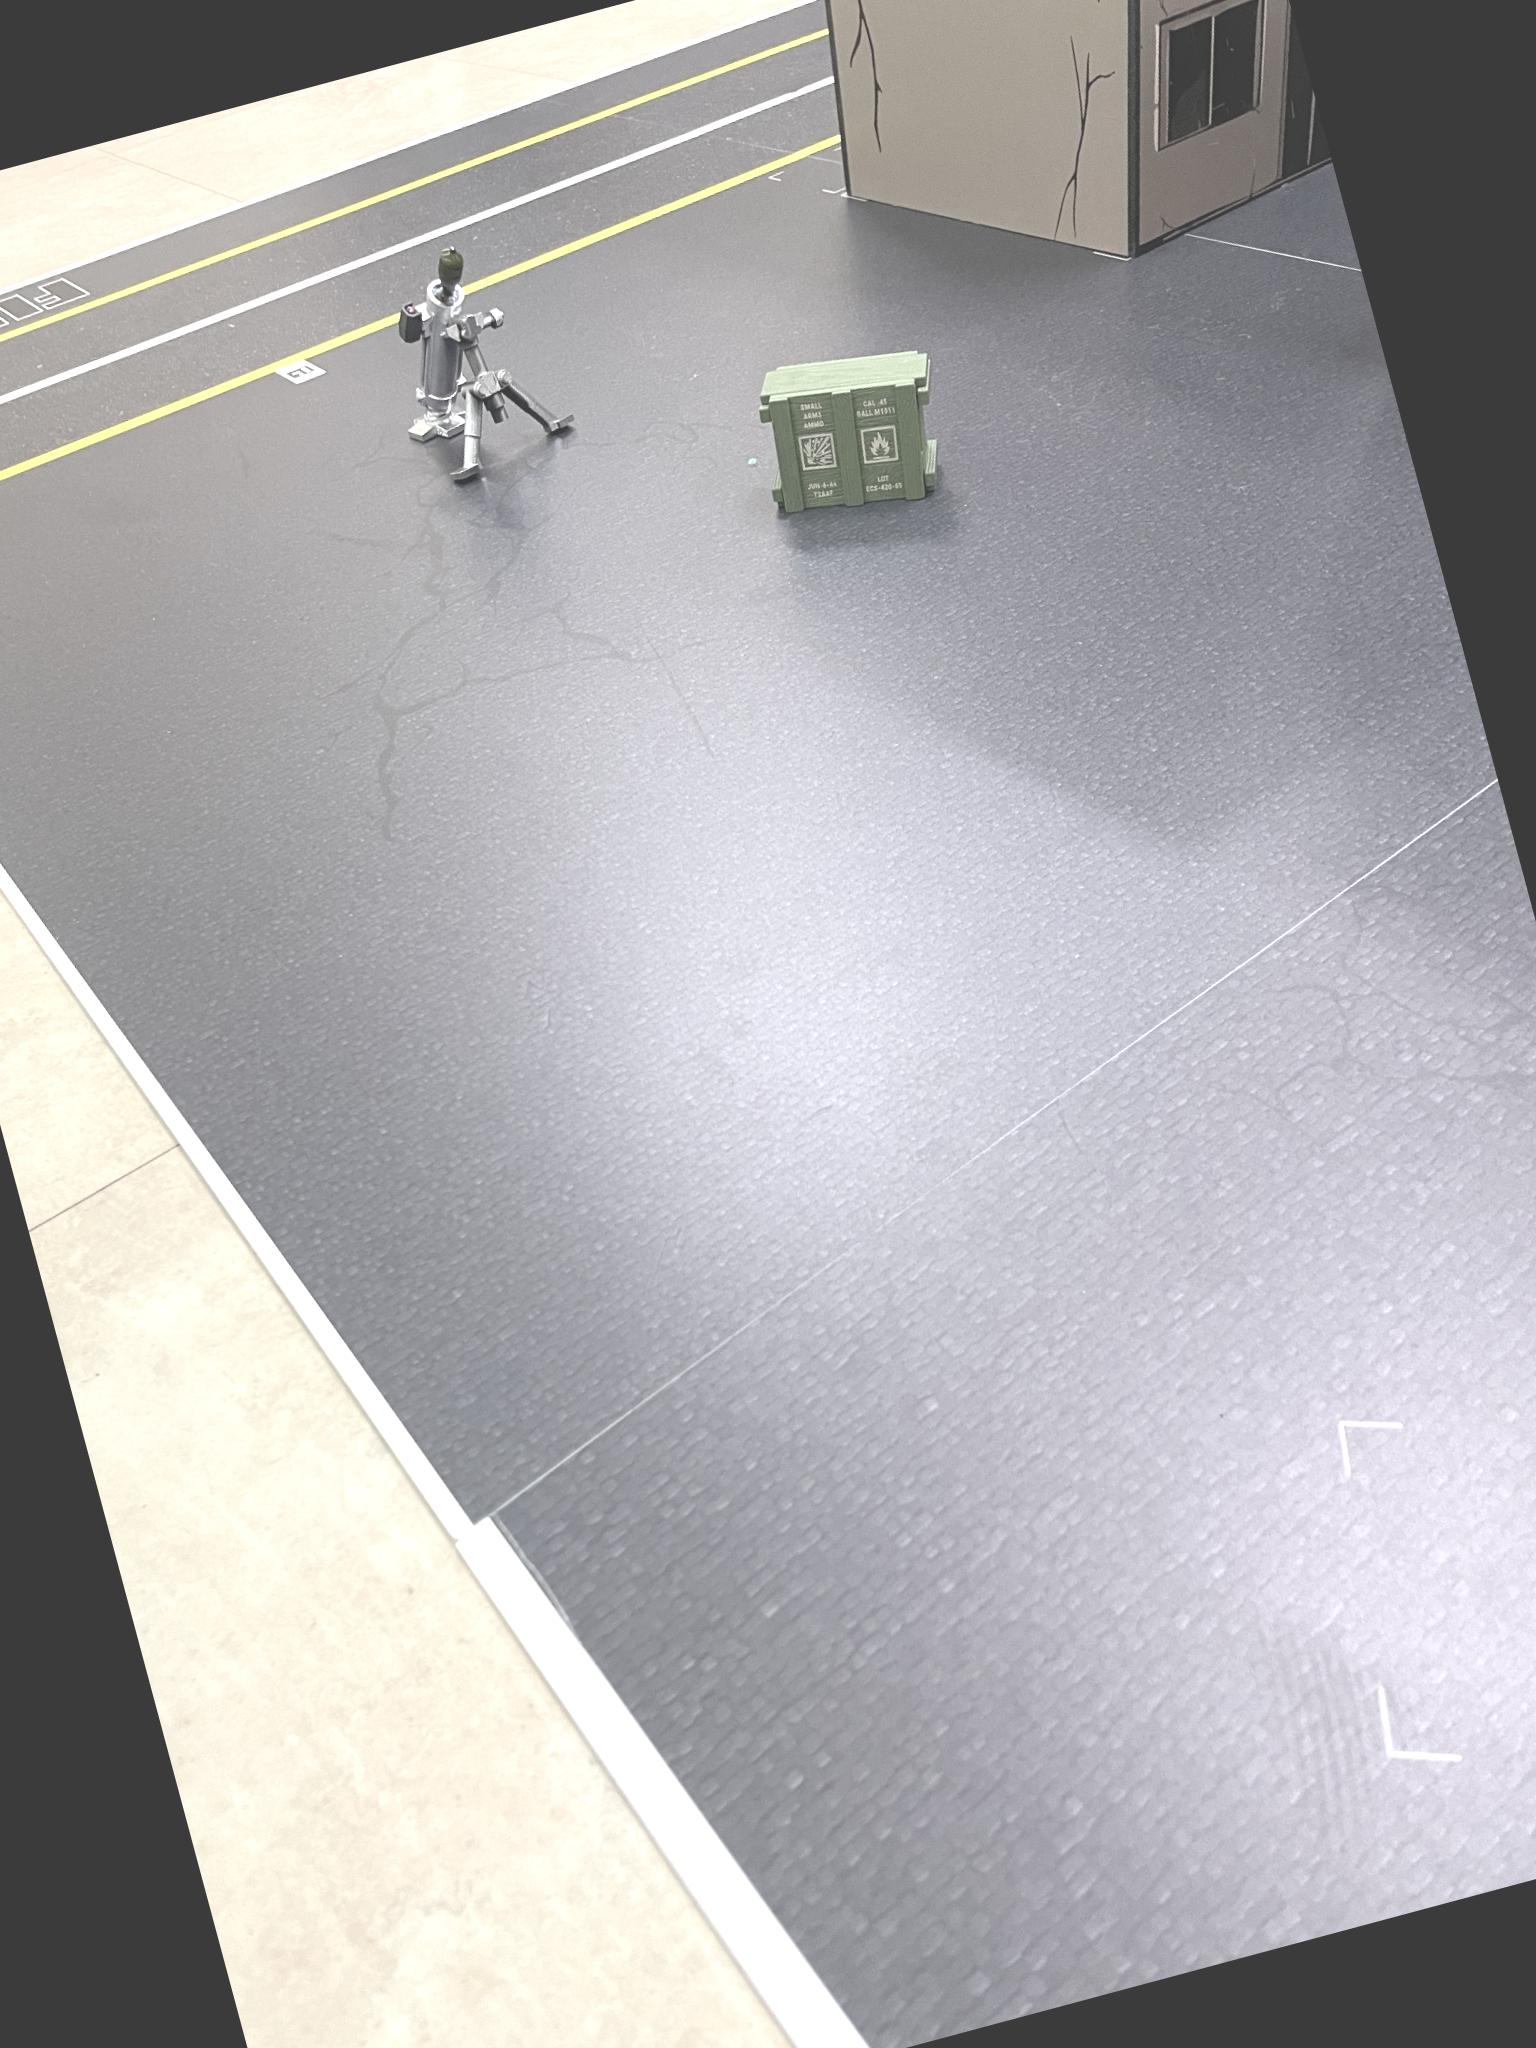Box: (744, 331, 963, 531)
Mortar: (363, 223, 587, 510)
